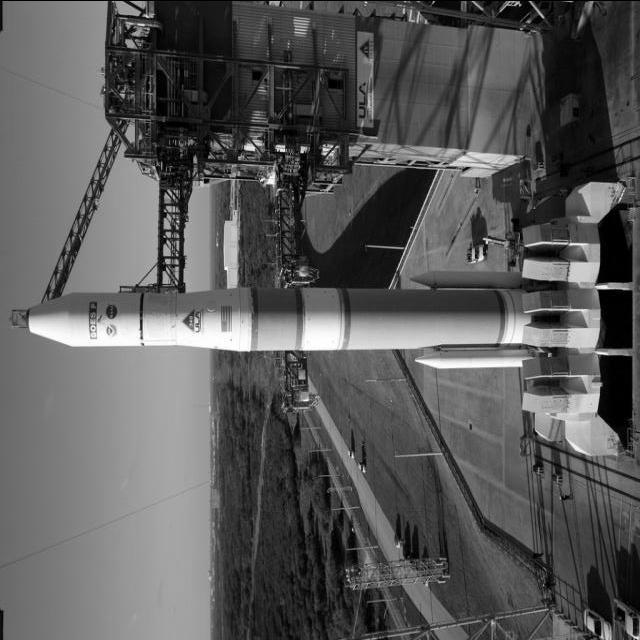missile: (12, 287, 545, 357)
